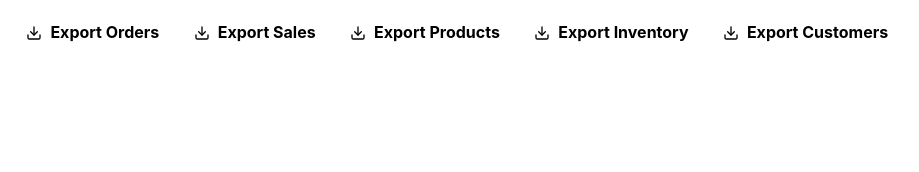
Scenario: ReportExportButtons › clears loading and exposes a retryable error after a failed export
Click the button "Export Customers": click(806, 33) [708,12,902,54]
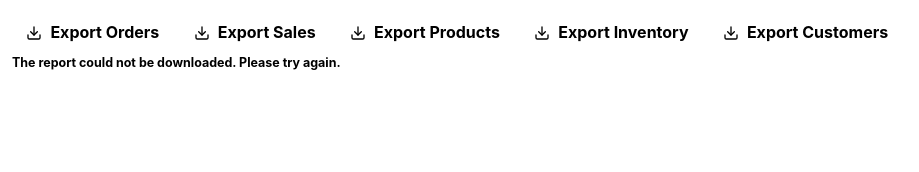
expect the message shows "could not be downloaded": met, box [12,55,341,70]
